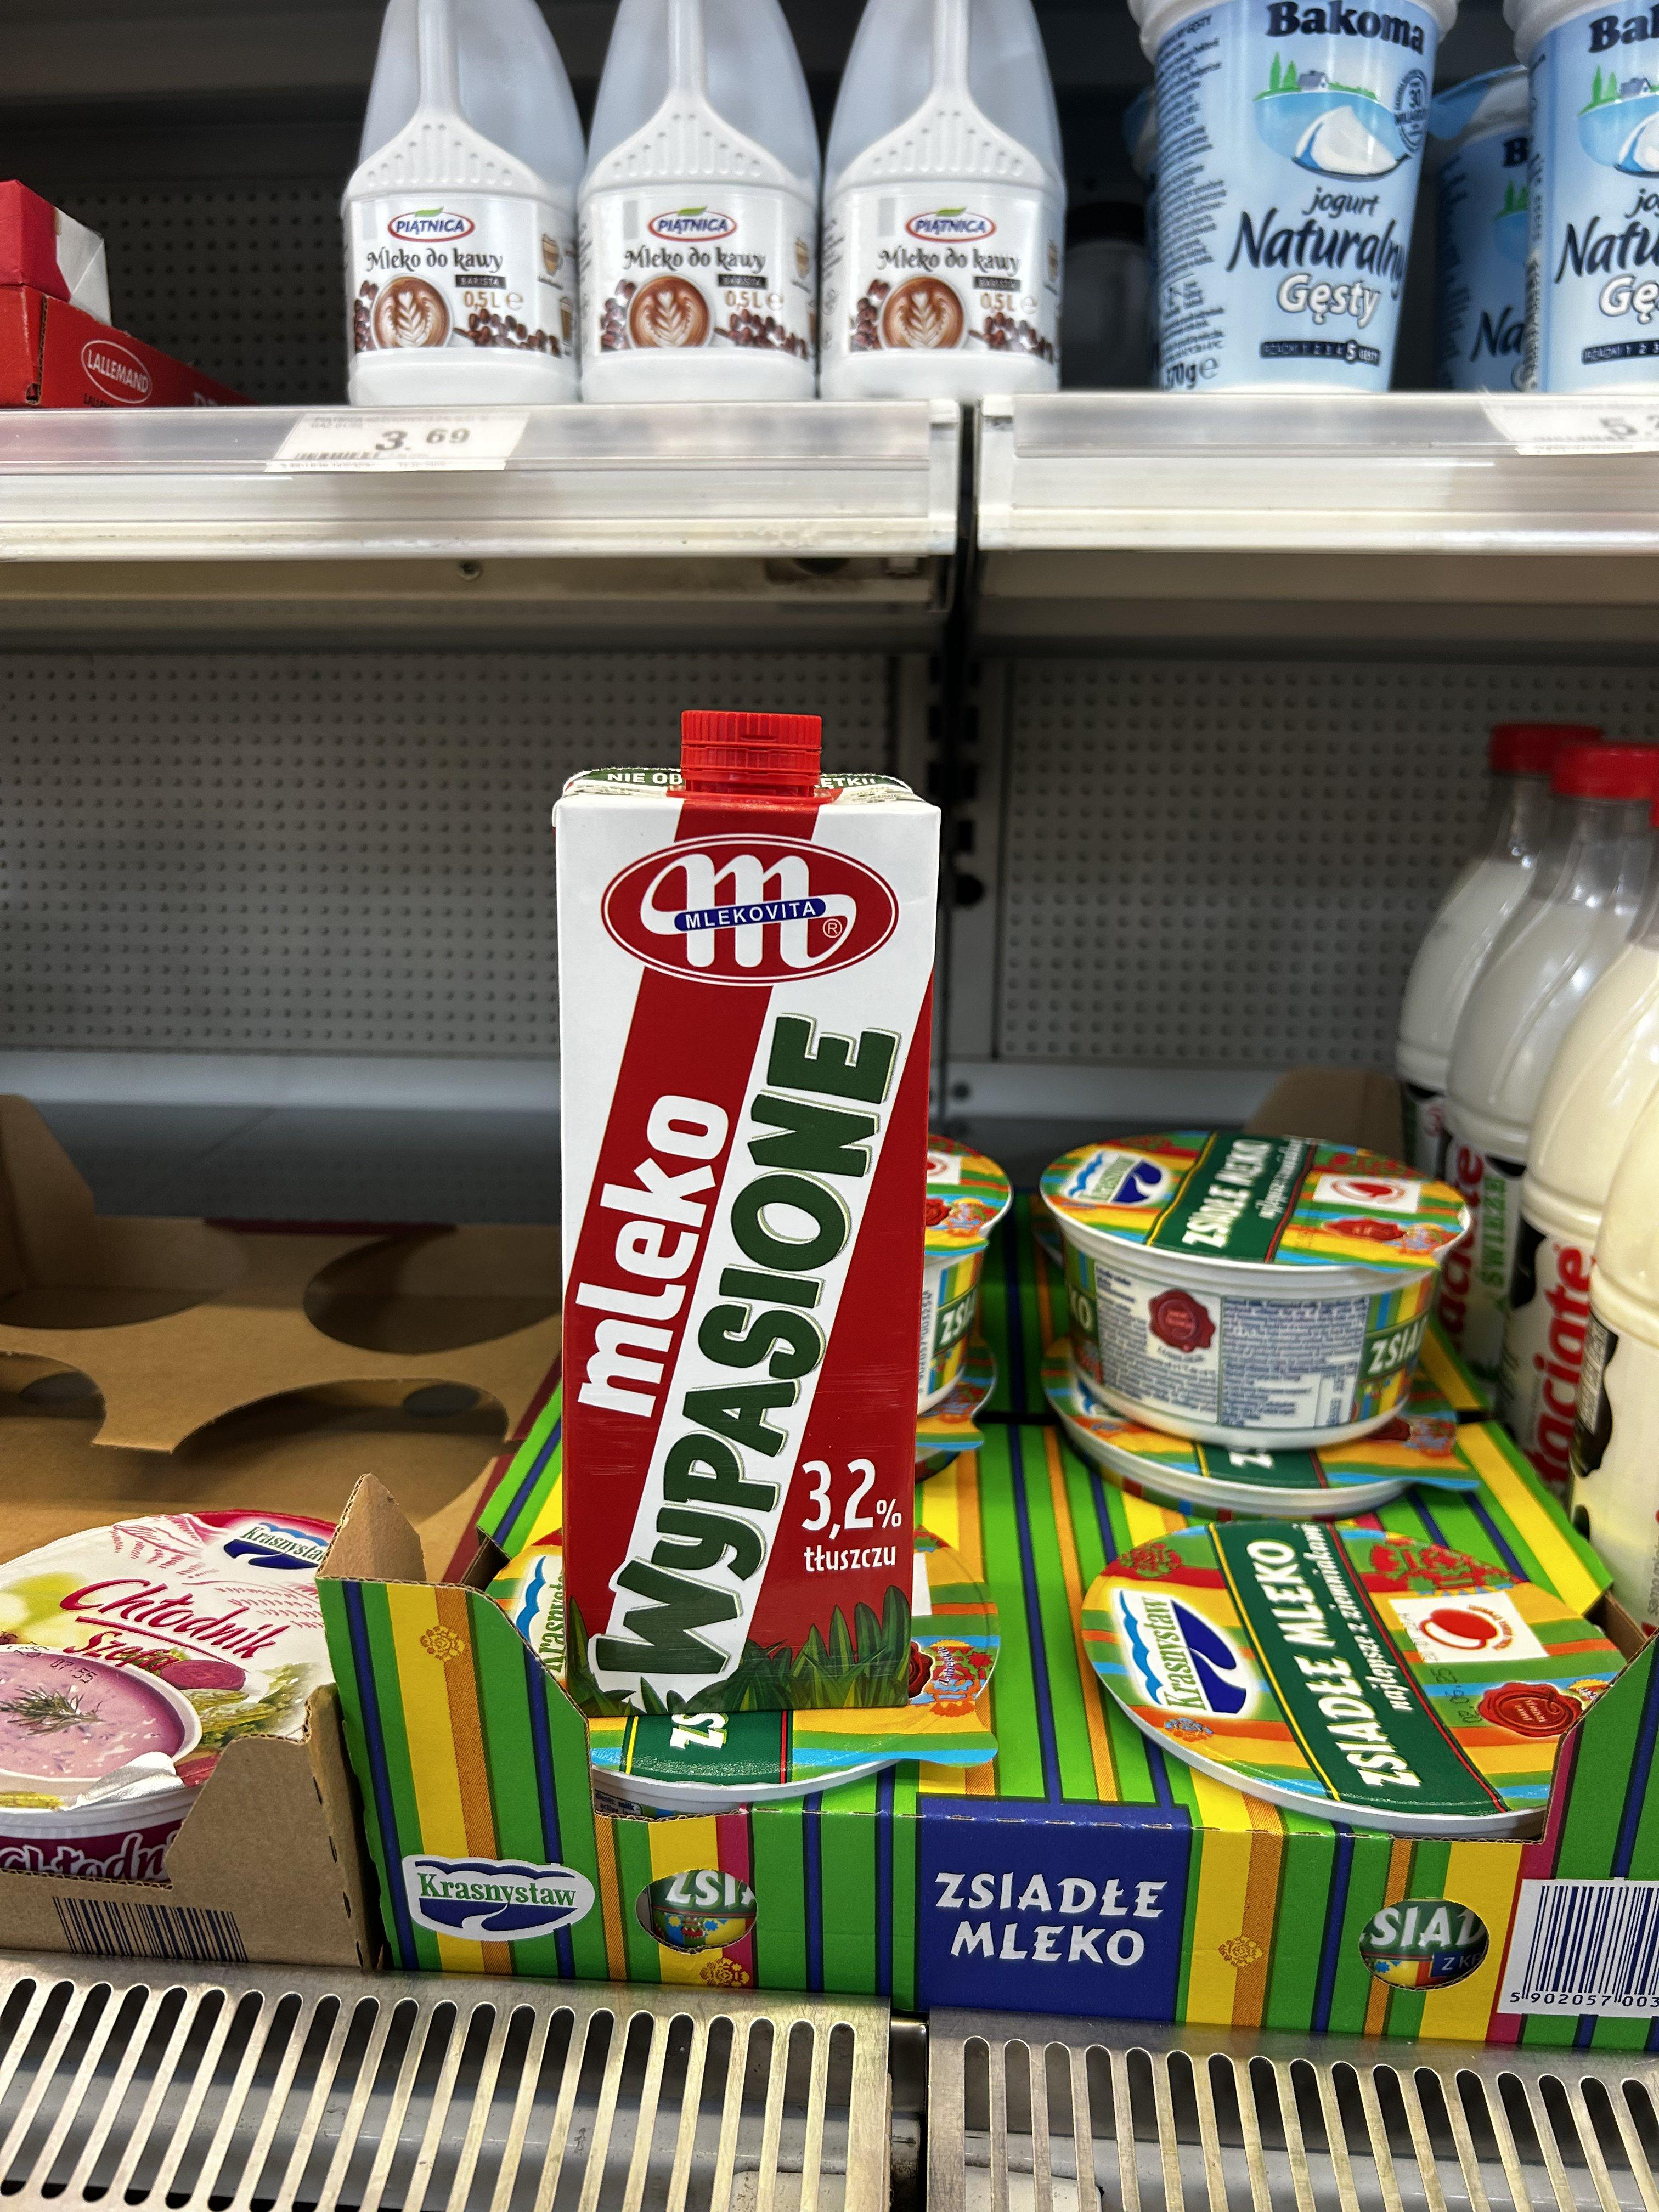Milk: (518, 686, 932, 1721)
